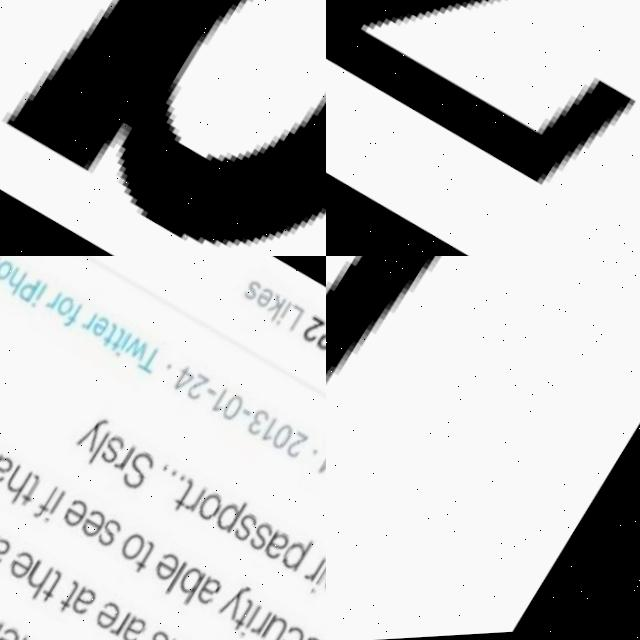0: (217, 398, 246, 431), (267, 428, 294, 460)
1: (257, 423, 281, 451), (208, 392, 232, 420)
2: (298, 320, 326, 353), (281, 437, 308, 469), (182, 378, 209, 410), (312, 329, 326, 360)
3: (243, 414, 270, 445)
4: (169, 370, 196, 401)
G: (0, 0, 326, 256)
L: (326, 256, 552, 626)
Z: (326, 0, 640, 256)
